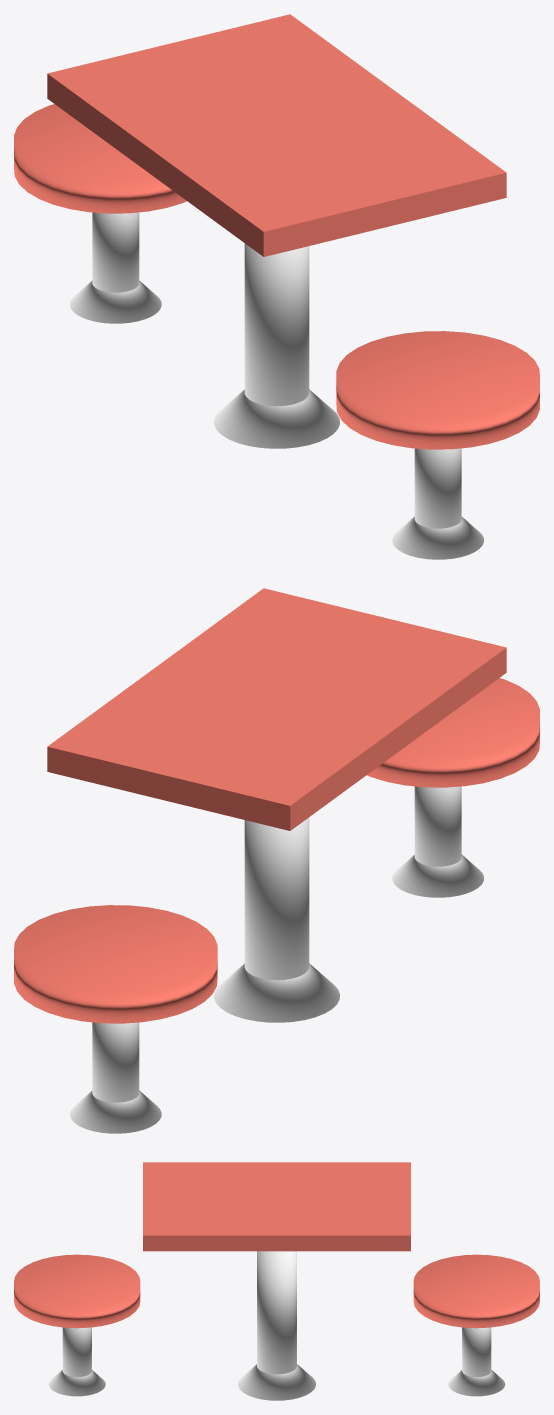
The model's file is table.fbx.
3 renders of one model, top to bottom at view 1: azimuth 30°, elevation 25°; view 2: azimuth 150°, elevation 25°; view 3: azimuth 270°, elevation 25°, orthographic. The views are drawn at different scales.
Parts seen in each view (by area): view 1: Cube, Cylinder.004, Cone, Cylinder.002, Cone.001, Cone.005; view 2: Cube, Cylinder.002, Cone, Cylinder.004, Cone.005, Cone.001; view 3: Cube, Cylinder.002, Cylinder.004, Cone, Cone.001, Cone.005.
Part boxes in pixels (<box>): Cube: <box>47,14,506,256</box>; Cylinder.004: <box>336,331,539,449</box>; Cone: <box>214,243,339,448</box>; Cylinder.002: <box>14,104,186,213</box>; Cone.001: <box>70,212,161,323</box>; Cone.005: <box>392,448,483,559</box>; Cube: <box>47,588,506,830</box>; Cylinder.002: <box>14,905,217,1023</box>; Cone: <box>214,817,339,1022</box>; Cylinder.004: <box>367,678,539,787</box>; Cone.005: <box>392,786,483,897</box>; Cone.001: <box>70,1022,161,1133</box>; Cube: <box>143,1162,410,1251</box>; Cylinder.002: <box>413,1254,539,1328</box>; Cylinder.004: <box>14,1254,140,1328</box>; Cone: <box>238,1251,315,1400</box>; Cone.001: <box>448,1327,505,1396</box>; Cone.005: <box>48,1327,105,1396</box>.
Bounding box in the file's own units: 200 × 235 × 605.
